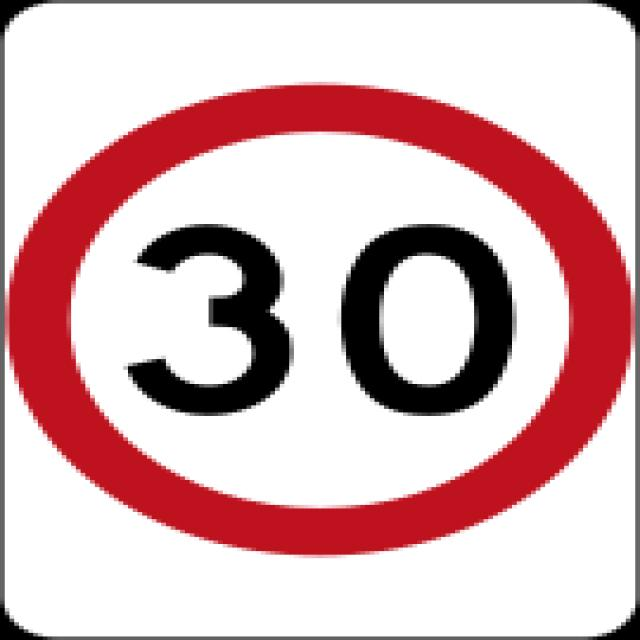Speed Limit -30-: (115, 216, 520, 429)
